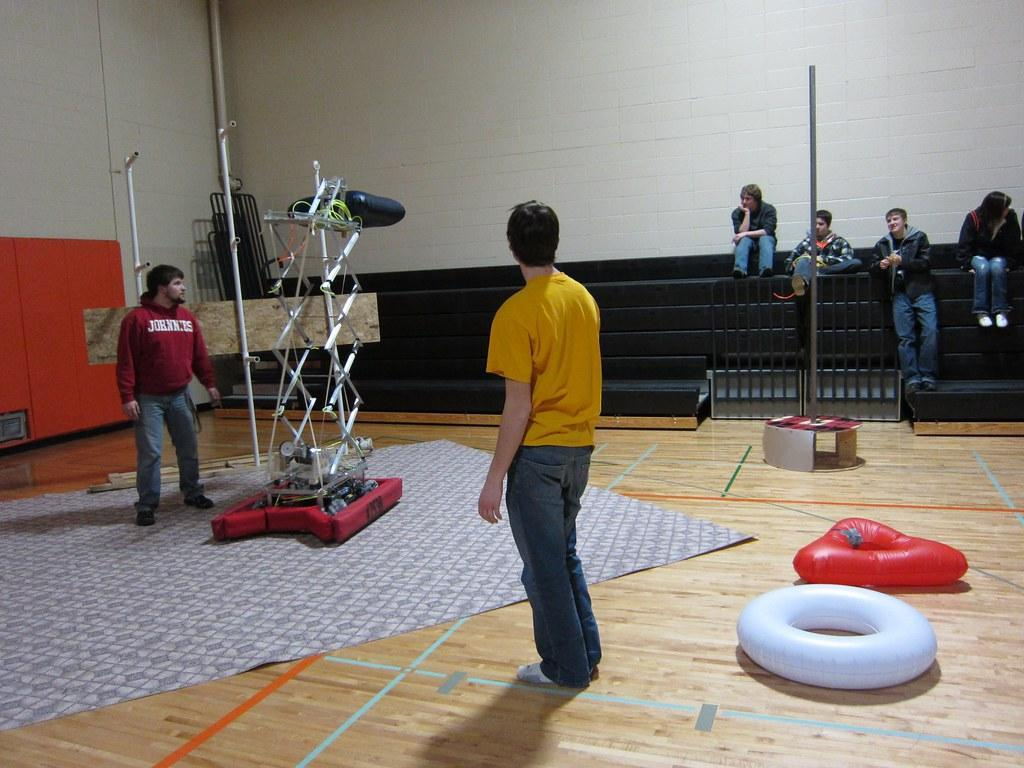robot: (199, 157, 417, 564)
